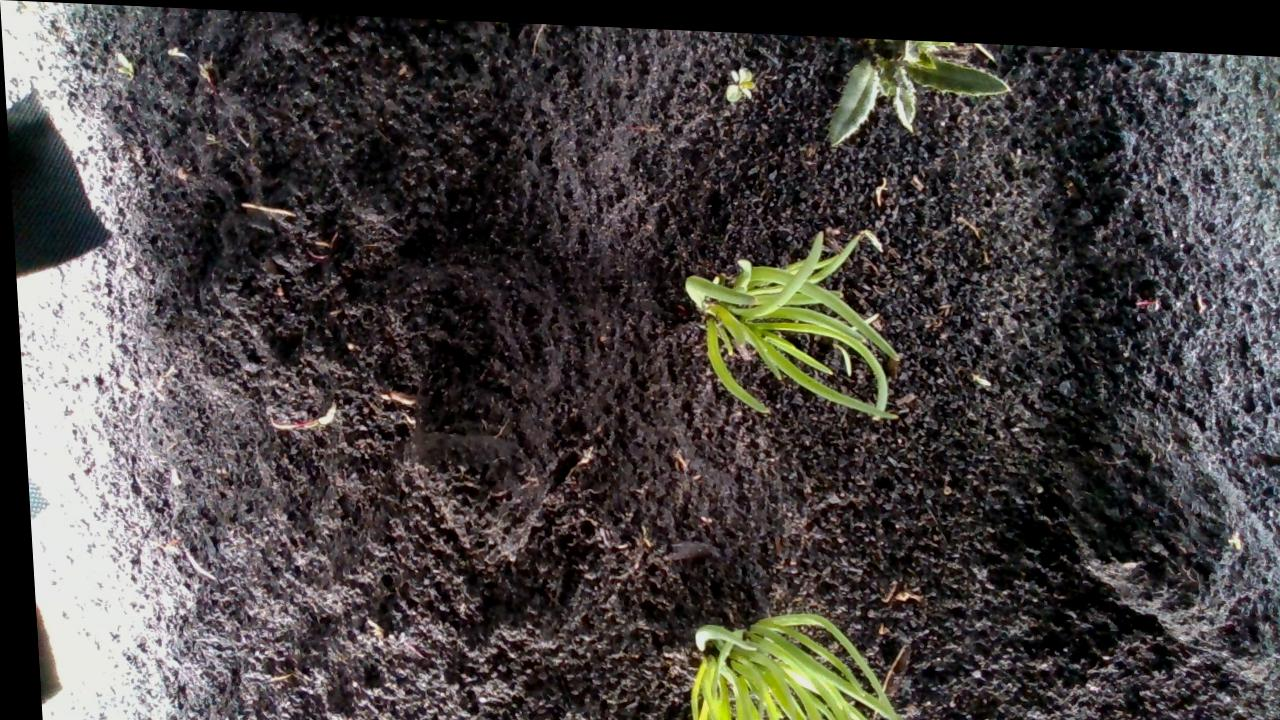weed: (722, 56, 755, 102)
